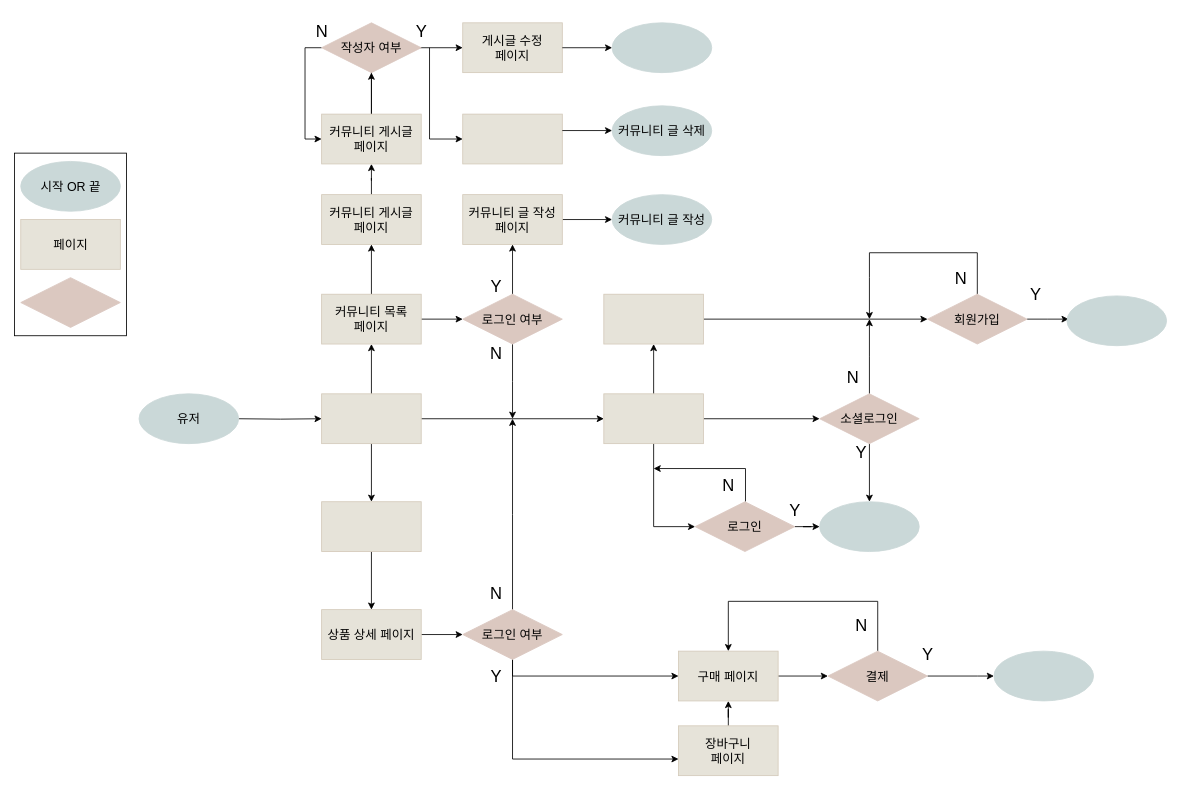
Some shapes in this 1181 by 790 pixel diagram are drawn without their labels. Here are the shapes that lost their labels. From the top down, the box of each, then its label:
(611, 22, 712, 73): 커뮤니티 글 수정
(462, 113, 562, 164): 게시글 삭제 페이지
(20, 277, 120, 327): 조건
(603, 293, 703, 344): 회원가입 페이지
(1066, 295, 1167, 346): 이용가능한 아이디 생성
(321, 393, 421, 444): 메인 페이지
(603, 393, 703, 444): 로그인 페이지
(321, 501, 421, 552): 상품 목록 페이지
(819, 501, 919, 552): 컨텐츠 이용가능
(993, 650, 1094, 701): 구매완료
